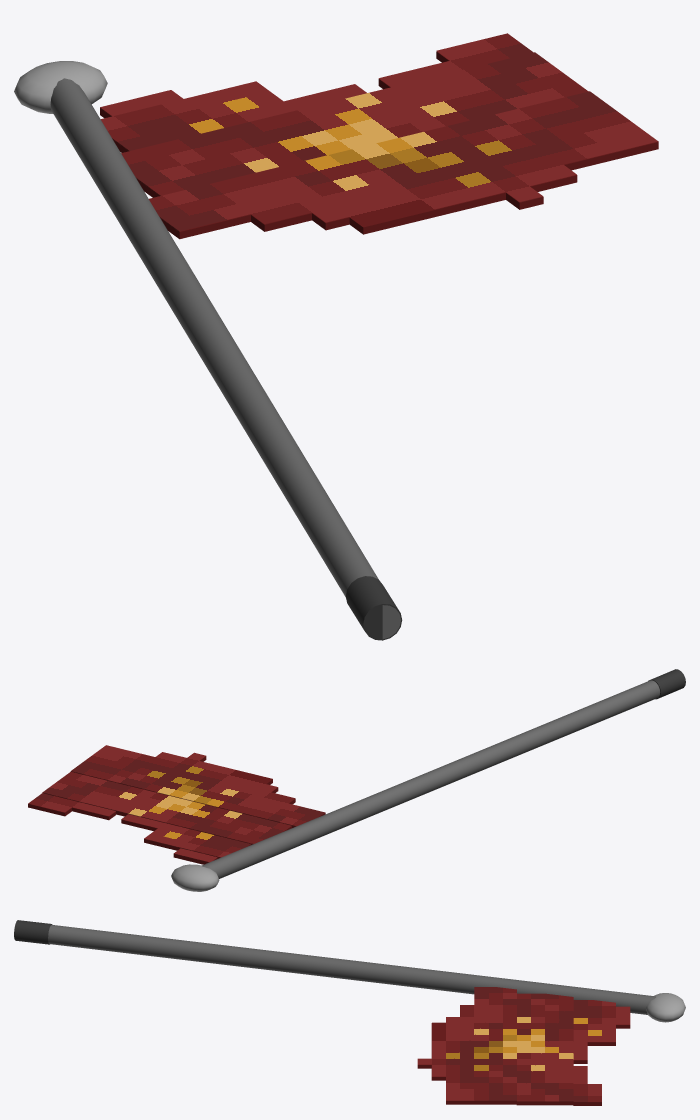
The model's file is CMU3DAU14FlagCarriableUPPDecorFinalCloud.glb.
The picture shows the model from 3 angles, top to bottom: view 1: azimuth 30°, elevation 25°; view 2: azimuth 150°, elevation 25°; view 3: azimuth 270°, elevation 25°; orthographic projection. The views are drawn at different scales.
Parts seen in each view (by area): view 1: loose cloth fold 3 original face, continuous round diagonal loose pole, loose cloth fold 2 original face, loose cloth fold 1 original face, rounded pole finial, dark lower ferrule, loose cloth fold 3 contour backing 3, loose cloth fold 3 contour backing 2, loose cloth fold 0 original face; view 2: continuous round diagonal loose pole, loose cloth fold 3 original face, loose cloth fold 2 original face, loose cloth fold 1 original face, rounded pole finial, dark lower ferrule; view 3: continuous round diagonal loose pole, loose cloth fold 3 original face, loose cloth fold 2 original face, loose cloth fold 1 original face, rounded pole finial, dark lower ferrule.
Boxes of the visible parts, bbox=[...] form: loose cloth fold 3 original face: bbox=[149, 91, 658, 231]; continuous round diagonal loose pole: bbox=[50, 78, 400, 638]; loose cloth fold 2 original face: bbox=[121, 52, 588, 195]; loose cloth fold 1 original face: bbox=[101, 33, 533, 151]; rounded pole finial: bbox=[14, 61, 107, 113]; dark lower ferrule: bbox=[345, 576, 402, 640]; loose cloth fold 3 contour backing 3: bbox=[349, 175, 577, 234]; loose cloth fold 3 contour backing 2: bbox=[312, 141, 658, 230]; loose cloth fold 0 original face: bbox=[100, 90, 183, 116]; continuous round diagonal loose pole: bbox=[201, 680, 660, 878]; loose cloth fold 3 original face: bbox=[71, 745, 325, 826]; loose cloth fold 2 original face: bbox=[42, 772, 291, 844]; loose cloth fold 1 original face: bbox=[28, 793, 250, 857]; rounded pole finial: bbox=[171, 864, 219, 891]; dark lower ferrule: bbox=[648, 669, 685, 699]; continuous round diagonal loose pole: bbox=[48, 925, 655, 1014]; loose cloth fold 3 original face: bbox=[417, 987, 516, 1100]; loose cloth fold 2 original face: bbox=[517, 993, 573, 1101]; loose cloth fold 1 original face: bbox=[573, 1000, 615, 1102]; rounded pole finial: bbox=[646, 993, 685, 1022]; dark lower ferrule: bbox=[14, 920, 52, 944].
Bounding box in the file's own units: 0.9317 × 0.05 × 1.48.
Materials: 8 (4 with a texture image).
